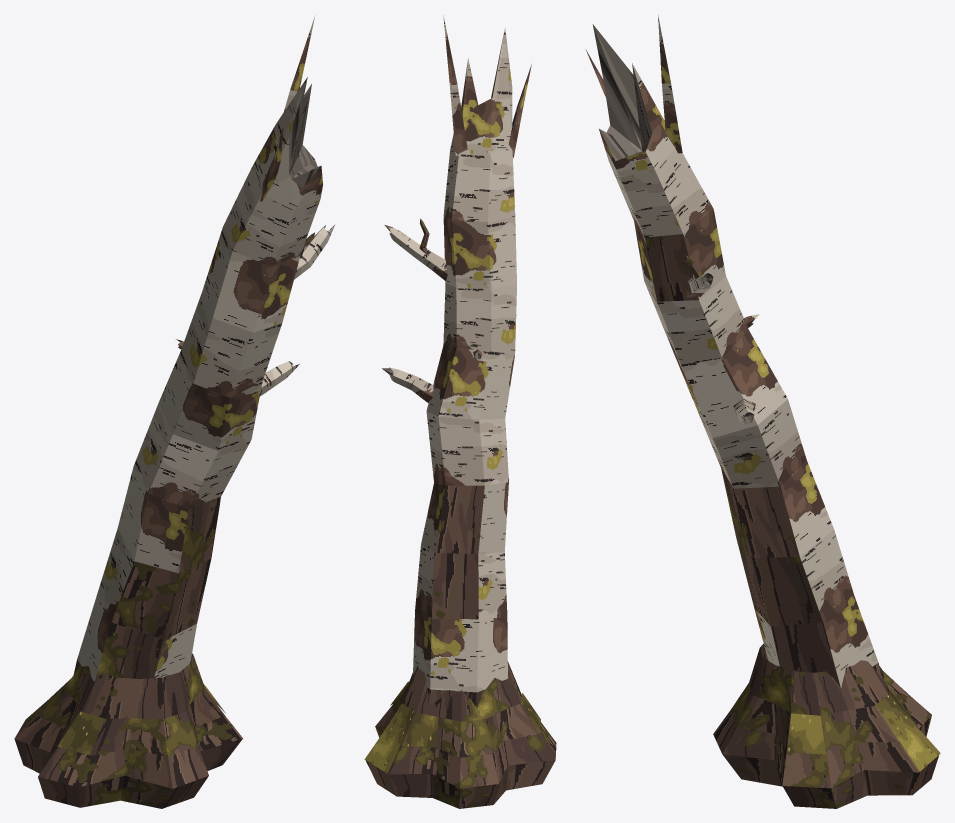
File: SM_SW07_LongSnag.fbx
3 views of the same model, side by side, from view 1: azimuth 30°, elevation 25°; view 2: azimuth 150°, elevation 25°; view 3: azimuth 270°, elevation 25° (orthographic). The views are drawn at different scales.
Visible parts, largest first — view 1: SW07a_Birch, SW07a_Bark, SW07a_Props, SW07a_Moss; view 2: SW07a_Birch, SW07a_Bark, SW07a_Moss; view 3: SW07a_Birch, SW07a_Bark, SW07a_Props, SW07a_Moss.
Part boxes in pixels (<box>): SW07a_Birch: <box>77,15,335,681</box>; SW07a_Bark: <box>14,232,314,808</box>; SW07a_Props: <box>176,78,333,342</box>; SW07a_Moss: <box>57,684,225,755</box>; SW07a_Birch: <box>389,15,531,692</box>; SW07a_Bark: <box>365,218,556,808</box>; SW07a_Moss: <box>364,681,540,773</box>; SW07a_Birch: <box>586,15,878,687</box>; SW07a_Bark: <box>645,234,938,808</box>; SW07a_Props: <box>592,24,753,423</box>; SW07a_Moss: <box>786,682,940,771</box>.
Size of the model in its own units: 2.28 by 6.95 by 2.78.
